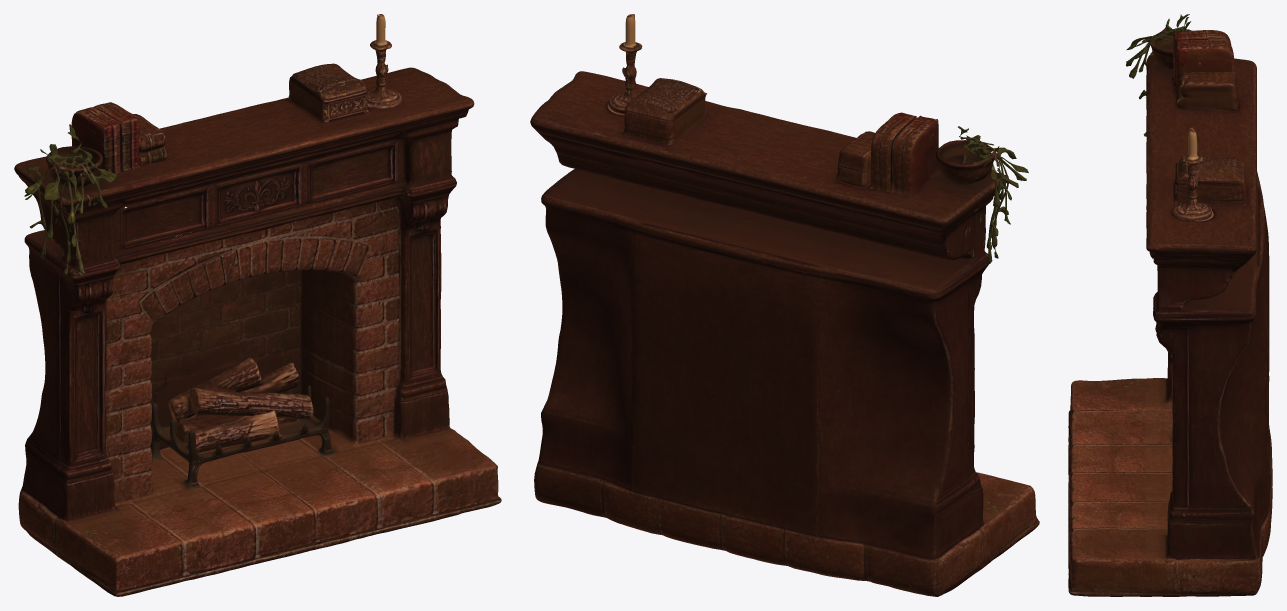
File: brick-fireplace.glb
The picture shows the model from 3 angles, left to right: view 1: azimuth 30°, elevation 25°; view 2: azimuth 150°, elevation 25°; view 3: azimuth 270°, elevation 25°; orthographic projection. The views are drawn at different scales.
Parts seen in each view (by area): view 1: tripo_node_95a42368; view 2: tripo_node_95a42368; view 3: tripo_node_95a42368.
Part boxes in pixels (box(x1,y1,x2,y2)): tripo_node_95a42368: box(14, 14, 501, 596); tripo_node_95a42368: box(530, 14, 1039, 596); tripo_node_95a42368: box(1068, 14, 1272, 596).
Size of the model in its own units: 96.86 by 97.23 by 40.89.
Materials: 1 (1 with a texture image).
